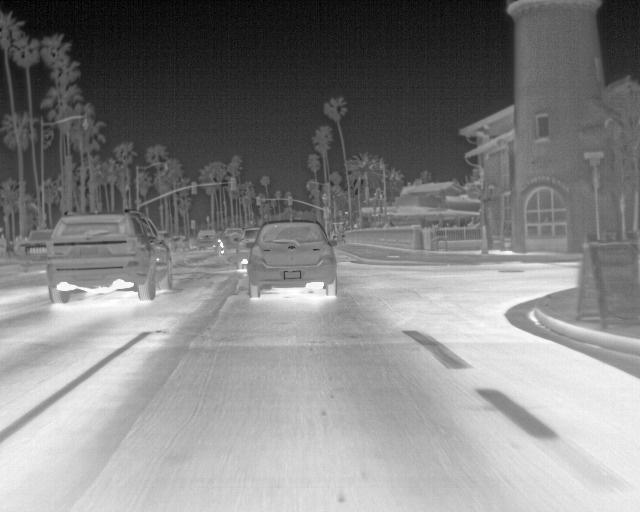bicycle: (47, 212, 172, 304), (242, 219, 340, 294), (19, 227, 52, 271), (241, 227, 261, 256), (194, 230, 217, 252), (224, 224, 245, 248)
